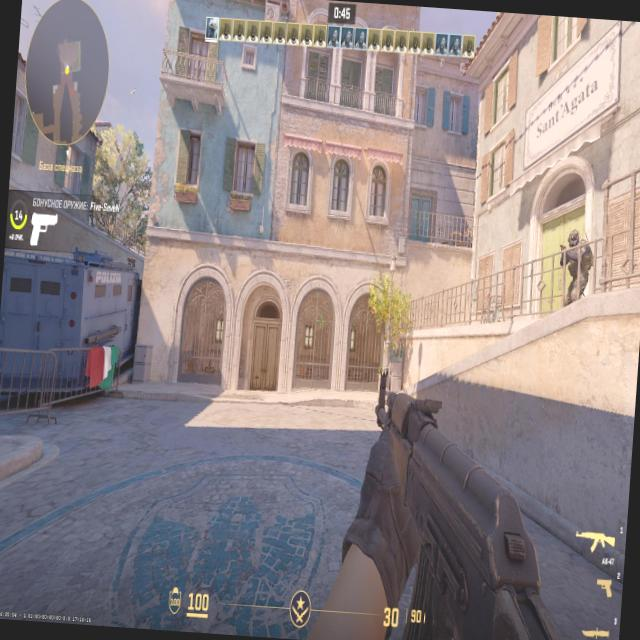CT: (562, 229, 590, 306)
CT_heat: (566, 234, 578, 249)
